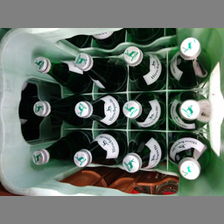water: (165, 131, 213, 182), (33, 52, 90, 93), (167, 36, 208, 90), (74, 51, 127, 90), (31, 131, 89, 166), (122, 45, 166, 90), (75, 131, 123, 171), (33, 93, 89, 127), (73, 92, 126, 127), (122, 131, 165, 174), (168, 92, 213, 131), (121, 92, 166, 128)
